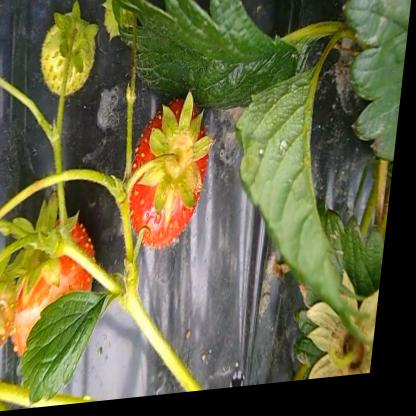ripe: (9, 214, 110, 372), (125, 99, 221, 261)
unripe: (34, 10, 101, 104)
